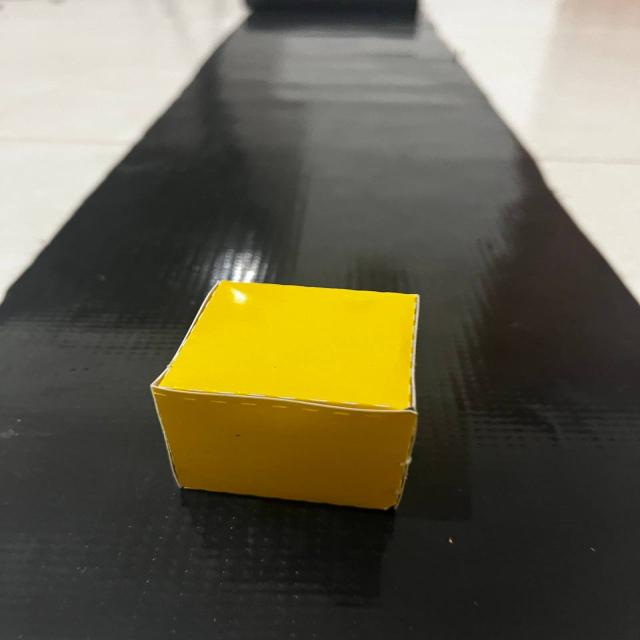Amarillo: (132, 267, 448, 534)
